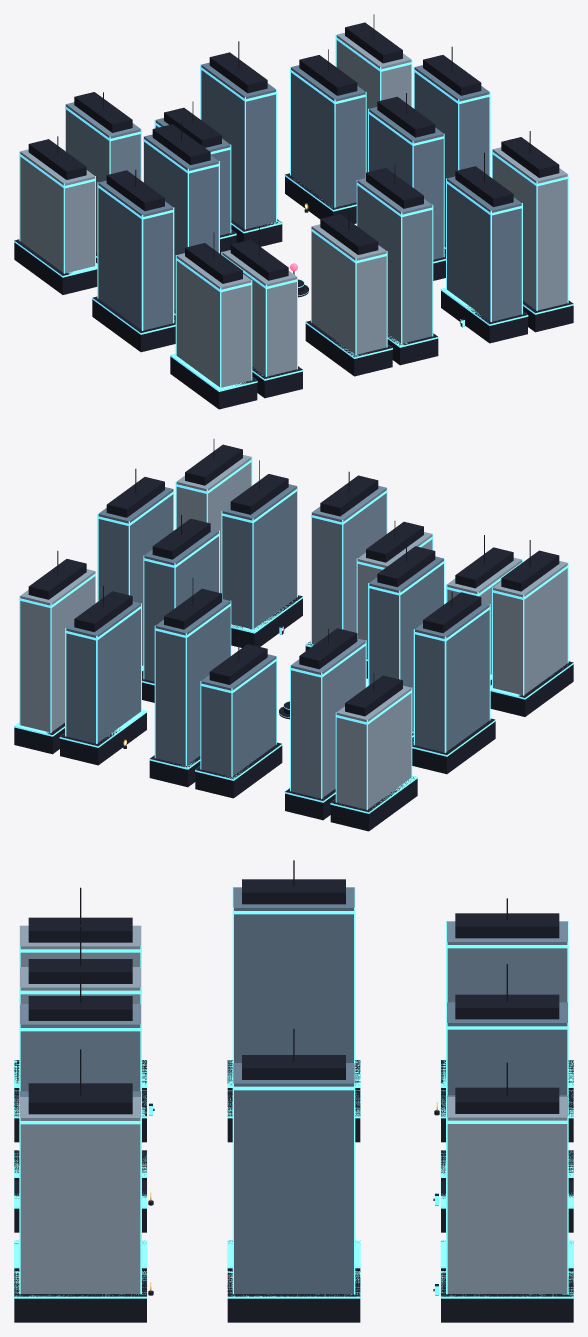
3 renders of one model, top to bottom at view 1: azimuth 30°, elevation 25°; view 2: azimuth 150°, elevation 25°; view 3: azimuth 270°, elevation 25°, orthographic. The views are drawn at different scales.
Parts seen in each view (by area): view 1: district_city_arcade.lod1; view 2: district_city_arcade.lod1; view 3: district_city_arcade.lod1.
Part boxes in pixels (<box>): district_city_arcade.lod1: <box>14,14,573,409</box>; district_city_arcade.lod1: <box>14,439,573,831</box>; district_city_arcade.lod1: <box>14,860,573,1322</box>.
Size of the model in its own units: 97.1 by 53.78 by 97.1.
